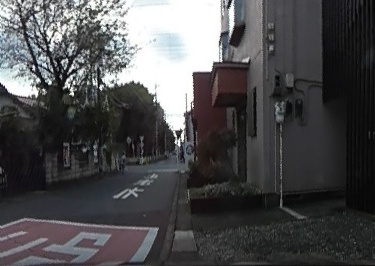person: (116, 149, 128, 173)
